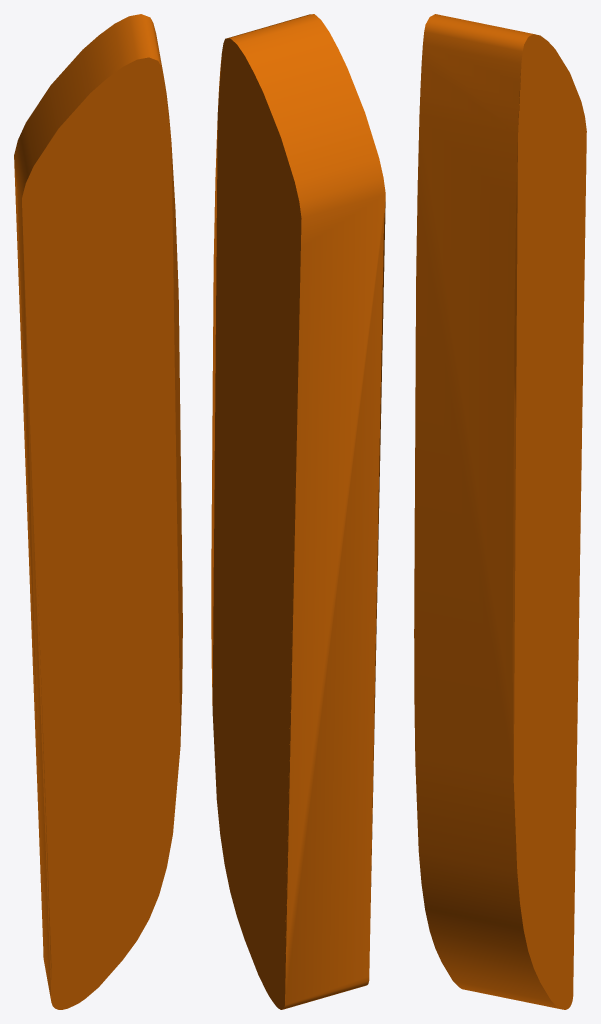
Rendered from alif oke.fbx.
3 views of the same model, side by side, from view 1: azimuth 30°, elevation 25°; view 2: azimuth 150°, elevation 25°; view 3: azimuth 270°, elevation 25° (orthographic). The views are drawn at different scales.
Parts seen in each view (by area): view 1: ALIF; view 2: ALIF; view 3: ALIF.
Boxes of the visible parts, x1,y1,x2,y2 form: ALIF: (14, 14, 182, 1009); ALIF: (211, 14, 385, 1009); ALIF: (414, 14, 586, 1009).
Bounding box in the file's own units: 22.4 × 123 × 19.17.
